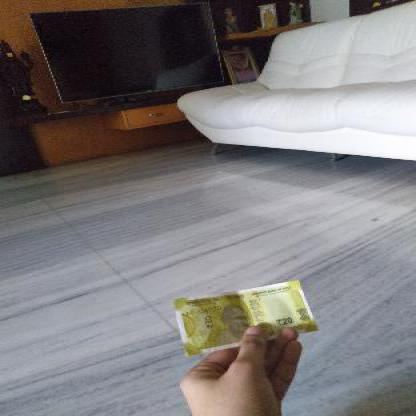New20Front: (176, 280, 319, 342)
